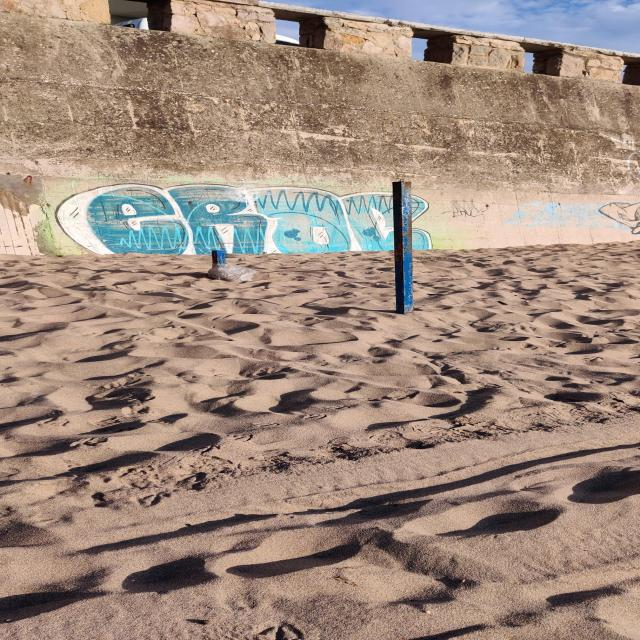litter: (393, 178, 414, 315), (211, 249, 226, 263)
